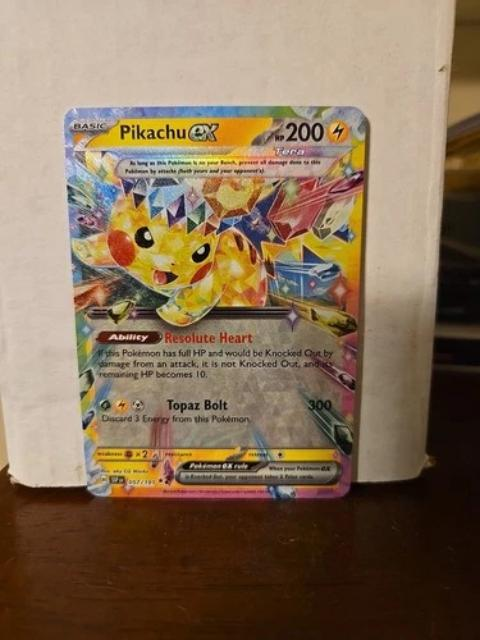Card: (59, 103, 370, 503)
Name: (115, 120, 227, 145)
